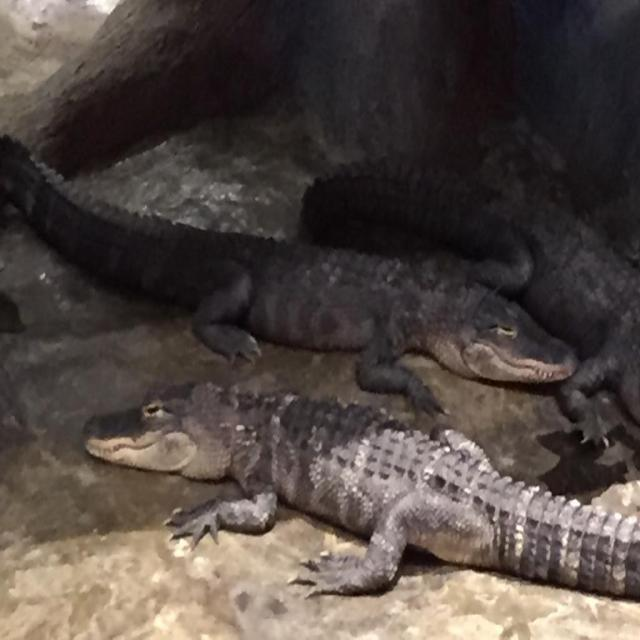crocodile: (67, 379, 639, 628)
